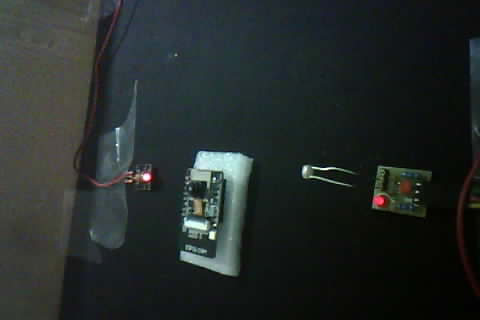esp32: (172, 145, 255, 269)
